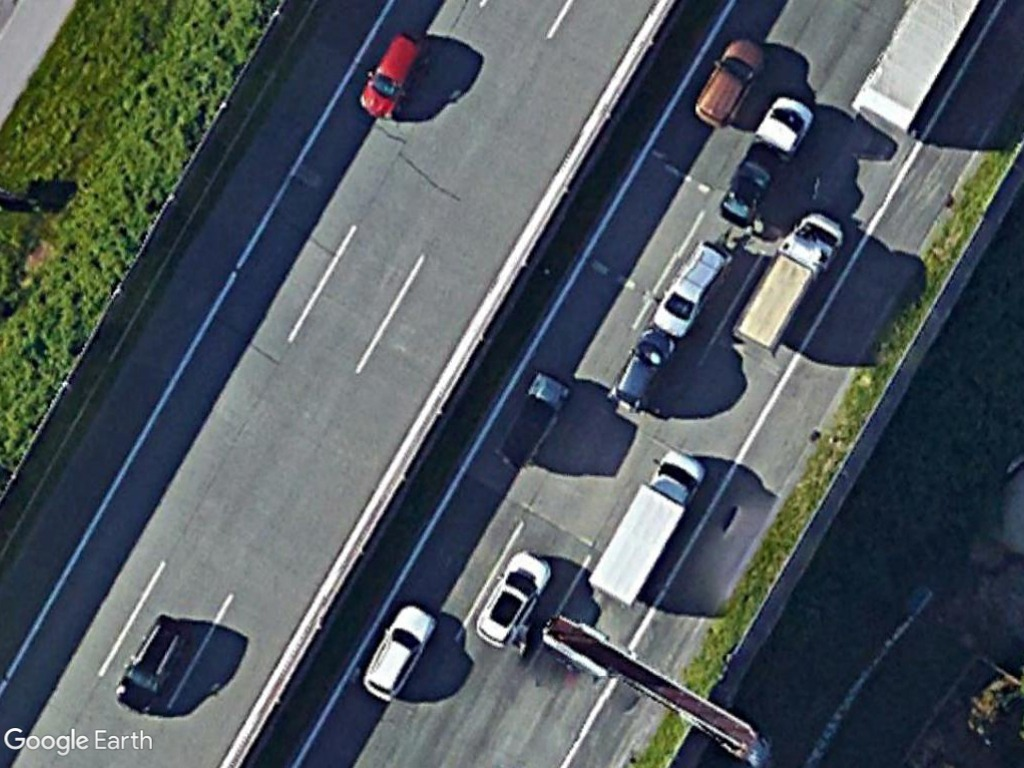car: (468, 541, 563, 651), (651, 232, 737, 338), (357, 597, 441, 703), (690, 30, 771, 138), (112, 608, 188, 713), (352, 26, 429, 122), (604, 322, 677, 411)
truck: (579, 448, 709, 608), (731, 205, 842, 357)
